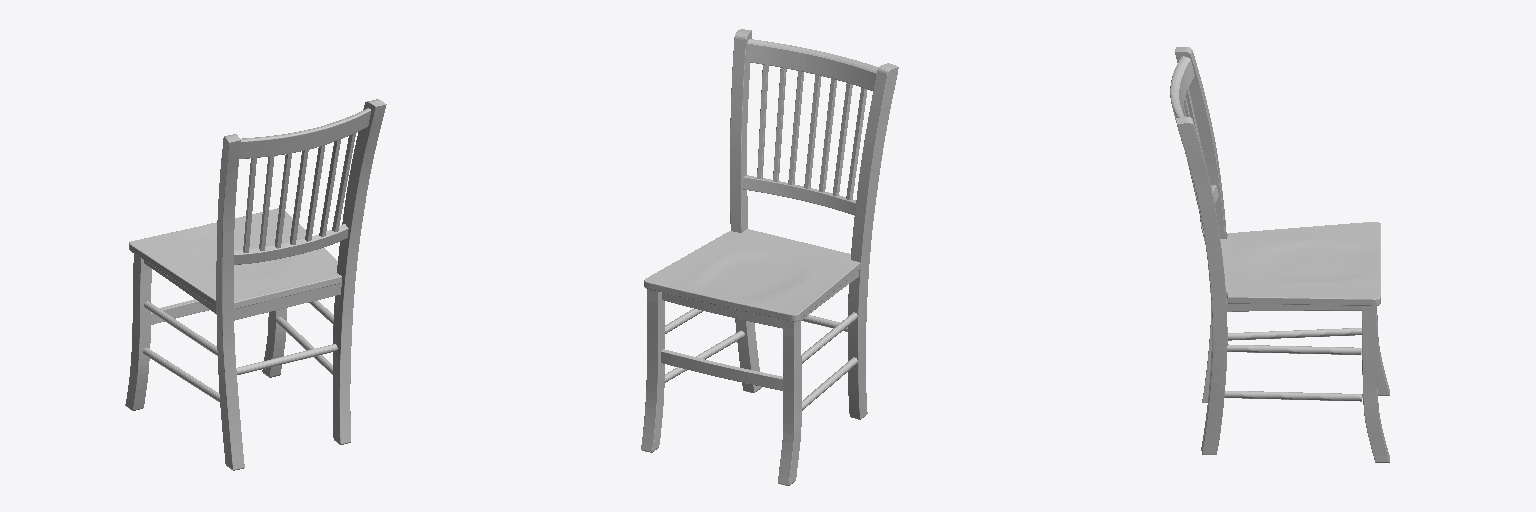
The picture shows the model from 3 angles: view 1: azimuth 30°, elevation 25°; view 2: azimuth 150°, elevation 25°; view 3: azimuth 270°, elevation 25°; orthographic projection.
Parts seen in each view (by area): view 1: CtrlArt_ChairMDL_Free; view 2: CtrlArt_ChairMDL_Free; view 3: CtrlArt_ChairMDL_Free.
Part boxes in pixels (x1,y1,x2,y2): CtrlArt_ChairMDL_Free: (125, 99, 386, 470); CtrlArt_ChairMDL_Free: (641, 29, 898, 485); CtrlArt_ChairMDL_Free: (1170, 47, 1389, 462).
Size of the model in its own units: 44.91 by 93.41 by 54.04.